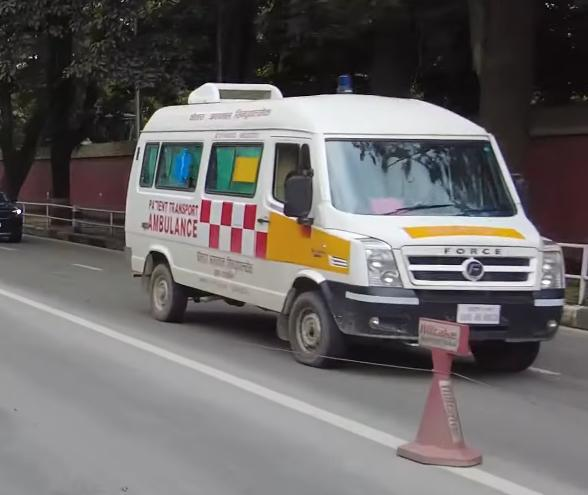ambulance: (113, 76, 581, 393)
